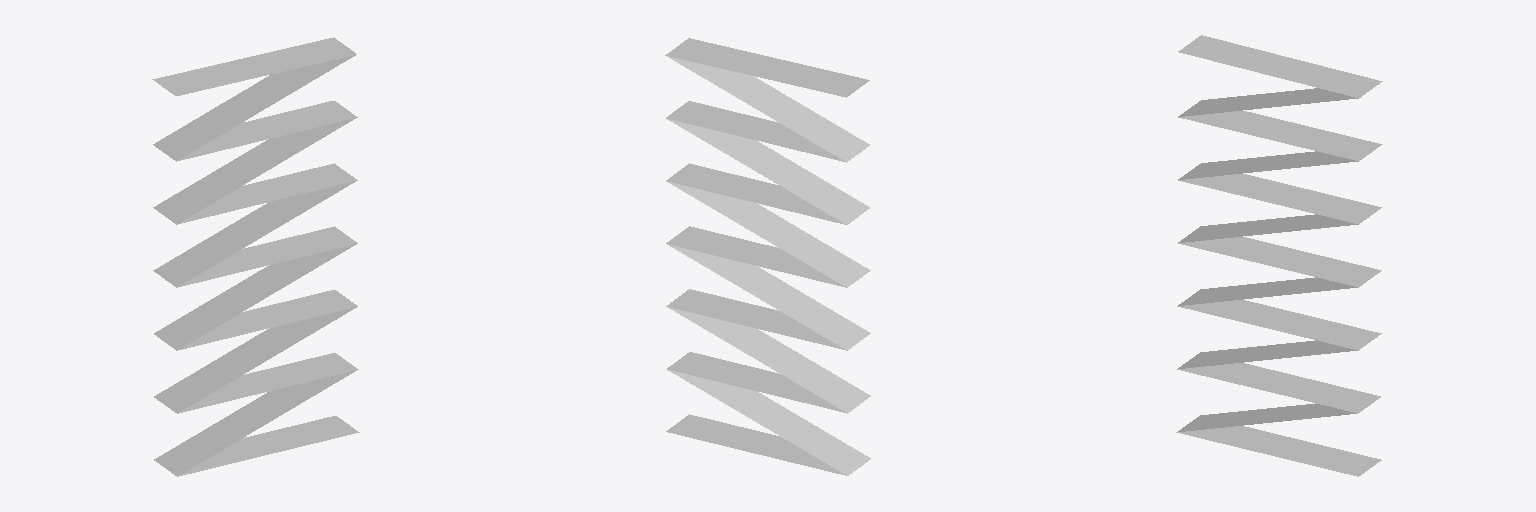
The model's file is Magazine_Spring.obj.
The picture shows the model from 3 angles: view 1: azimuth 30°, elevation 25°; view 2: azimuth 150°, elevation 25°; view 3: azimuth 330°, elevation 25°; orthographic projection.
Visible parts, largest first — view 1: Magazine_Spring; view 2: Magazine_Spring; view 3: Magazine_Spring.
Boxes of the visible parts, <box> form: Magazine_Spring: <box>152,37,359,476</box>; Magazine_Spring: <box>665,38,870,475</box>; Magazine_Spring: <box>1176,35,1382,476</box>.
Size of the model in its own units: 0.0606 by 0.1206 by 0.0143.